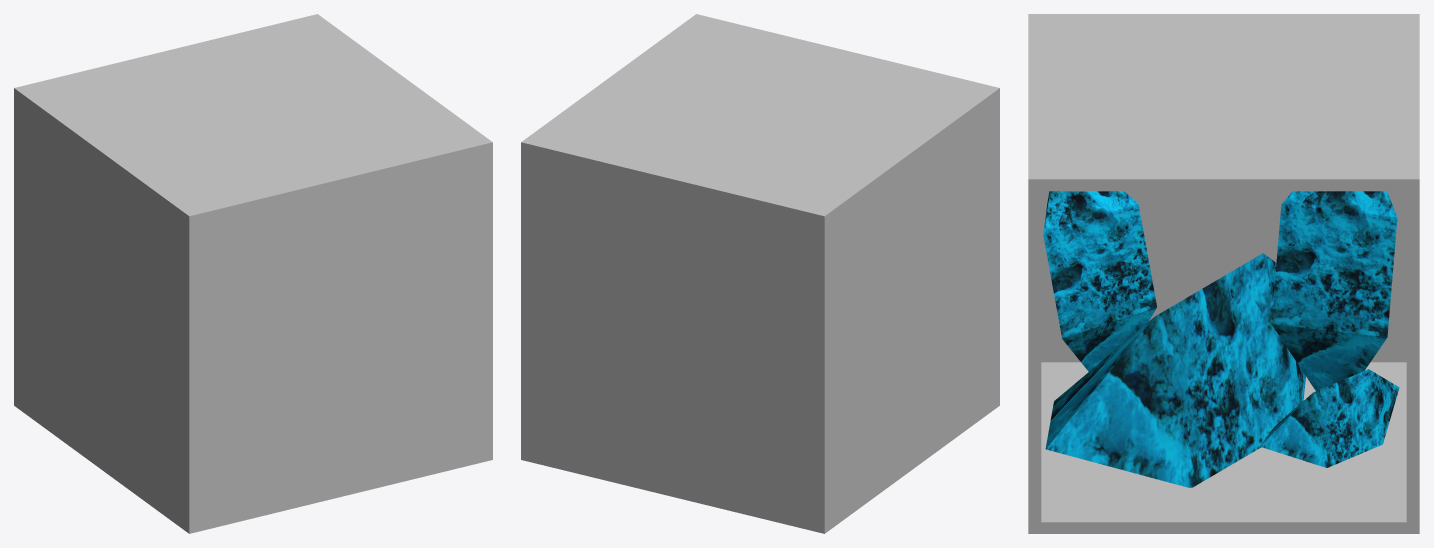
Rendered from OpenContainer_withCrystals.fbx.
The picture shows the model from 3 angles, left to right: view 1: azimuth 30°, elevation 25°; view 2: azimuth 150°, elevation 25°; view 3: azimuth 270°, elevation 25°; orthographic projection. The views are drawn at different scales.
Visible parts, largest first — view 1: OpenContainer; view 2: OpenContainer; view 3: OpenContainer, Crystals.
Part boxes in pixels (x1,y1,x2,y2): OpenContainer: [14, 14, 492, 533]; OpenContainer: [521, 14, 999, 533]; OpenContainer: [1028, 14, 1419, 533]; Crystals: [1043, 191, 1399, 487].
Size of the model in its own units: 600 by 600 by 600.
